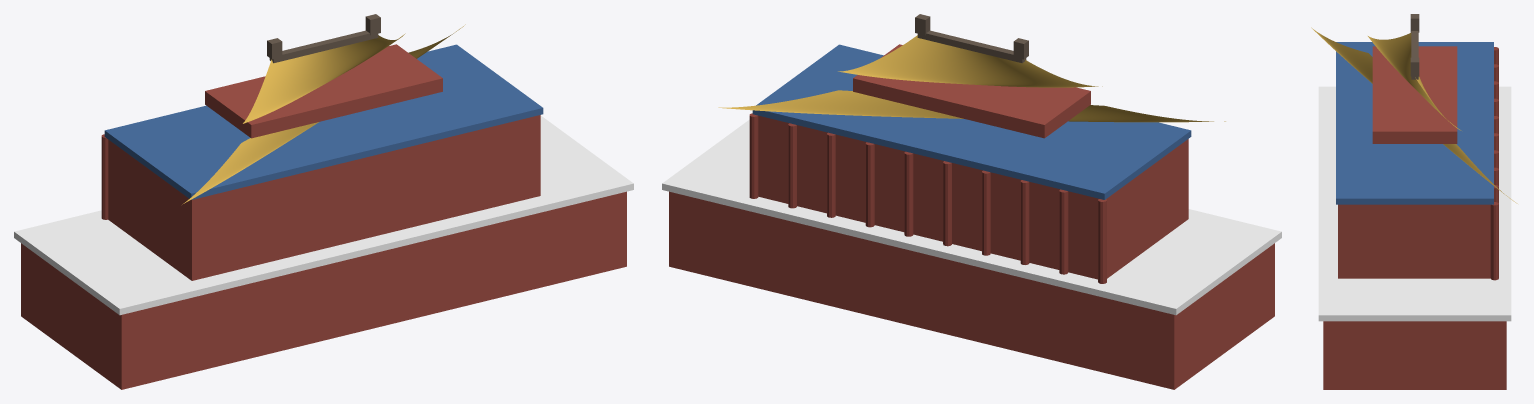
The model's file is taihemen.glb.
3 views of the same model, side by side, from view 1: azimuth 30°, elevation 25°; view 2: azimuth 150°, elevation 25°; view 3: azimuth 270°, elevation 25° (orthographic). The views are drawn at different scales.
Visible parts, largest first — view 1: taihemen; view 2: taihemen; view 3: taihemen.
Boxes of the visible parts, left/top/right/bottom form: taihemen: left=14, top=14, right=633, bottom=389; taihemen: left=662, top=14, right=1281, bottom=389; taihemen: left=1311, top=14, right=1517, bottom=389.
Bounding box in the file's own units: 59 × 28.78 × 22.8.
